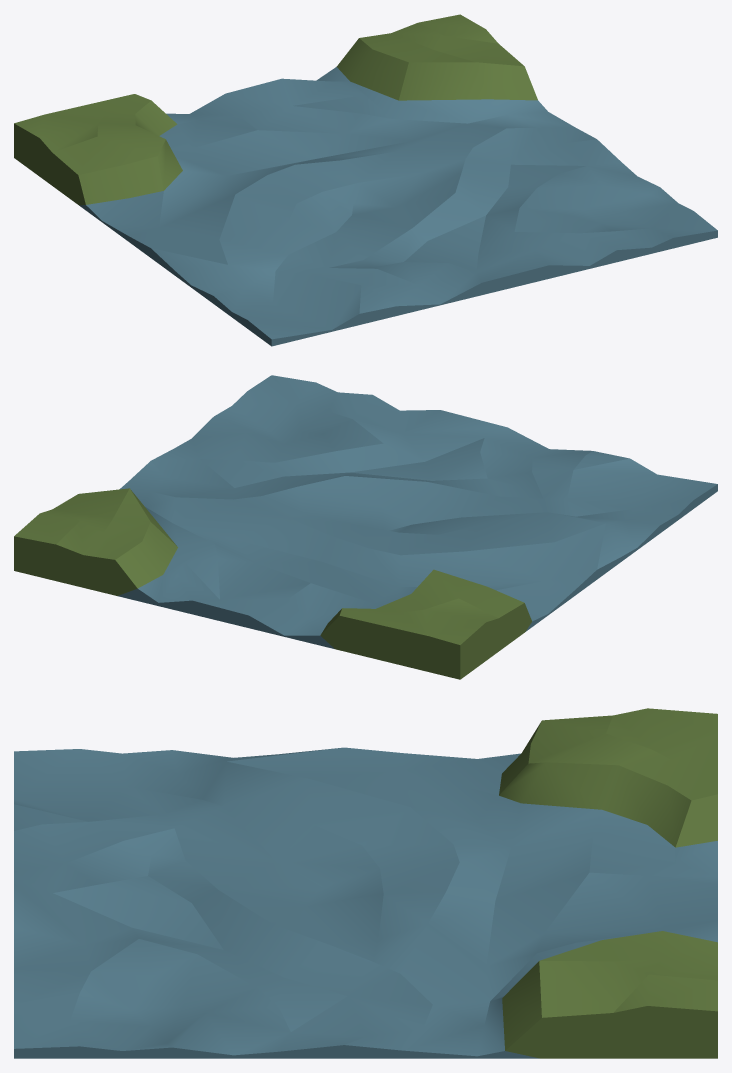
File: Water_River_Entrance_U.glb
3 views of the same model, one above another, from view 1: azimuth 30°, elevation 25°; view 2: azimuth 150°, elevation 25°; view 3: azimuth 270°, elevation 25° (orthographic). The views are drawn at different scales.
Parts seen in each view (by area): view 1: Water_River_Entrance_U; view 2: Water_River_Entrance_U; view 3: Water_River_Entrance_U.
Part boxes in pixels (x1,y1,x2,y2): Water_River_Entrance_U: (14, 14, 717, 346); Water_River_Entrance_U: (14, 375, 717, 679); Water_River_Entrance_U: (14, 708, 717, 1058).
Size of the model in its own units: 1.47 by 0.1477 by 1.47.
